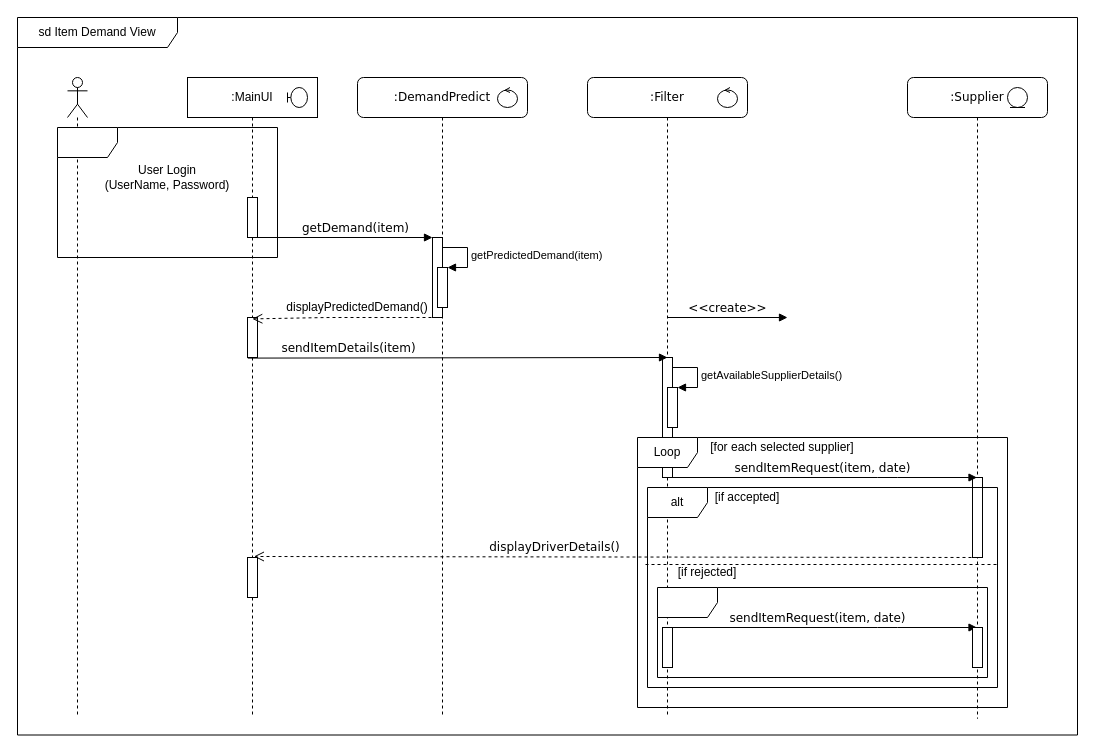
The diagram is 1095 pixels wide and 753 high, and some of its shapes have lost their labels. The shapes that lost their labels are listed below. From the top down, each one's centre as x and y in pixels, then its label:
(167,192): ref
(822,632): break
